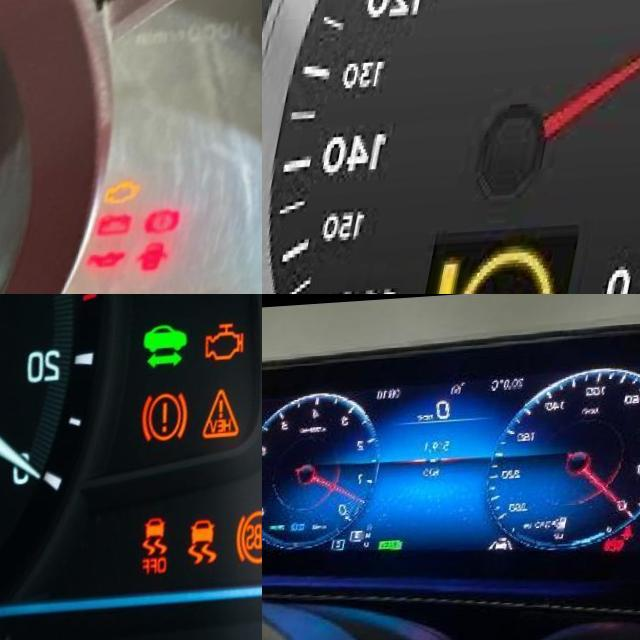Electronic Power Steering: (436, 247, 589, 294)
Low fuel level: (566, 521, 582, 536)
